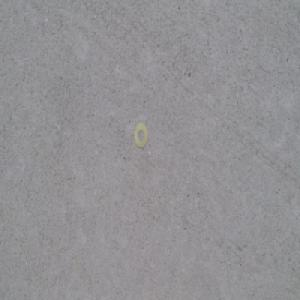Washer: (135, 122, 149, 149)
